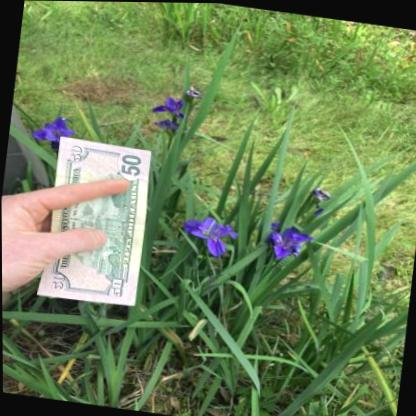fifty-back: (36, 136, 151, 306)
